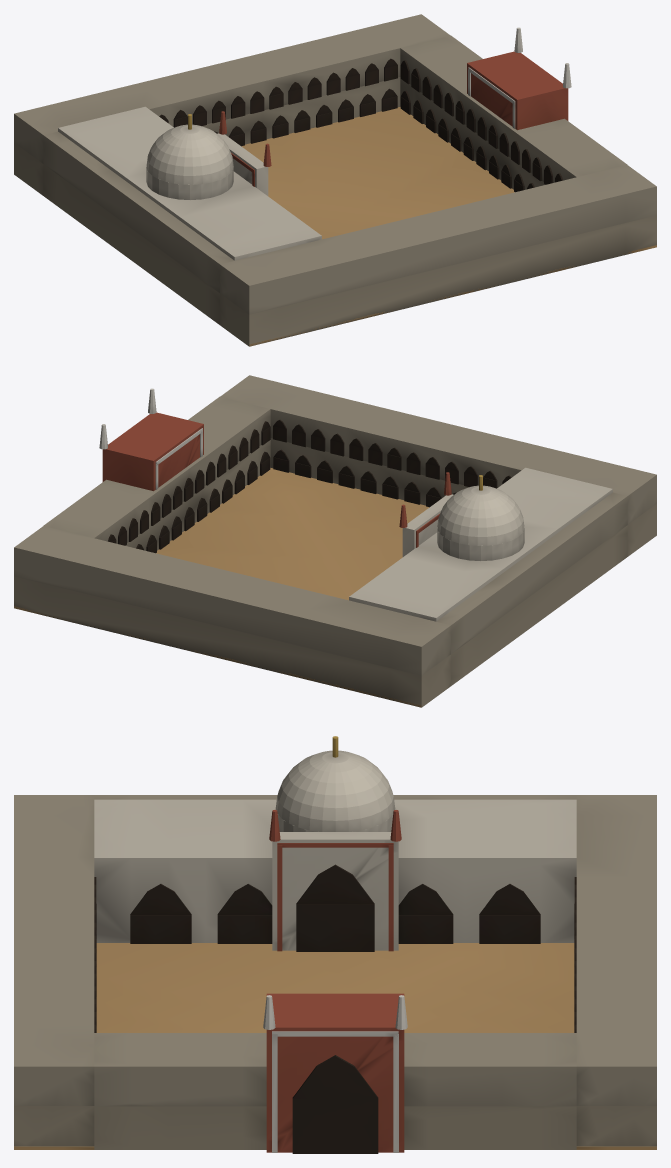
Rendered from khair-ul-manazil.glb.
3 views of the same model, one above another, from view 1: azimuth 30°, elevation 25°; view 2: azimuth 150°, elevation 25°; view 3: azimuth 270°, elevation 25° (orthographic). The views are drawn at different scales.
Parts seen in each view (by area): view 1: p0_madrasa, p1_mosque, p2_dome; view 2: p0_madrasa, p1_mosque, p2_dome; view 3: p0_madrasa, p1_mosque, p2_dome.
Part boxes in pixels (left/top/right/bottom): p0_madrasa: left=14, top=14, right=656, bottom=346; p1_mosque: left=58, top=27, right=571, bottom=260; p2_dome: left=146, top=114, right=233, bottom=199; p0_madrasa: left=14, top=375, right=656, bottom=707; p1_mosque: left=99, top=388, right=612, bottom=621; p2_dome: left=437, top=475, right=524, bottom=560; p0_madrasa: left=14, top=795, right=656, bottom=1149; p1_mosque: left=94, top=799, right=576, bottom=1153; p2_dome: left=275, top=736, right=395, bottom=831.
Size of the model in its own units: 57.06 by 17.28 by 56.
